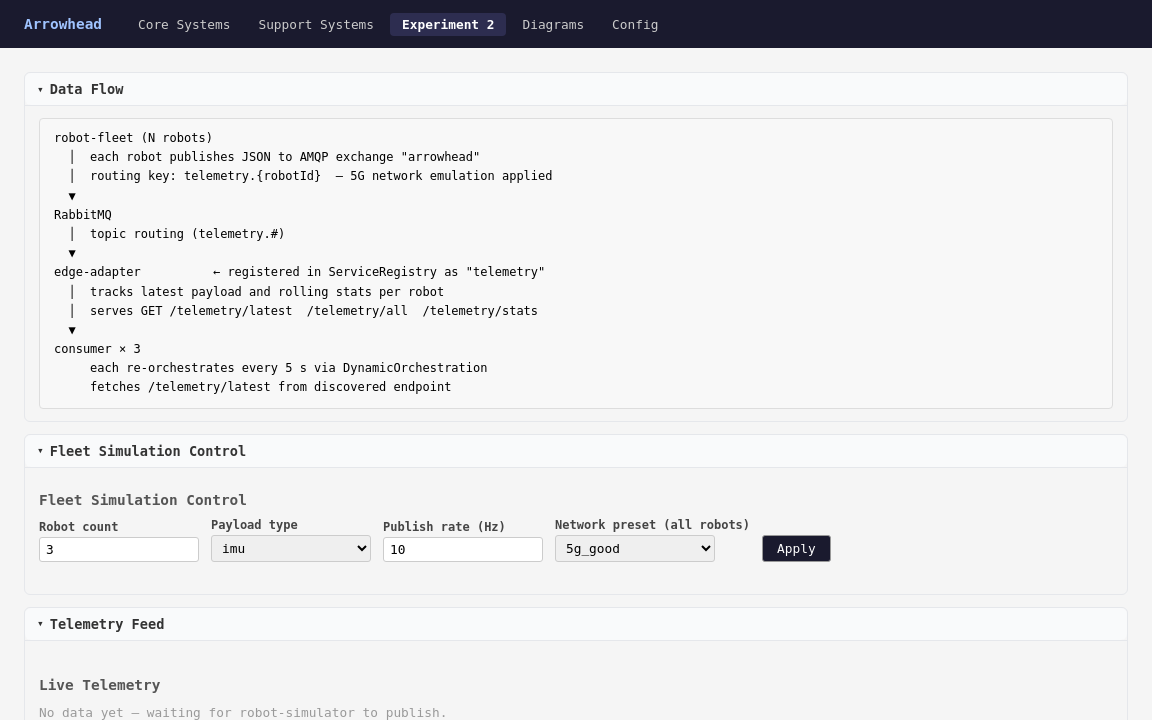
Test: App navigation › switches to Core Systems view on click
The width and height of the screenshot is (1152, 720).
Click the button "Core Systems". click: (184,24)
box: [126,12,242,36]
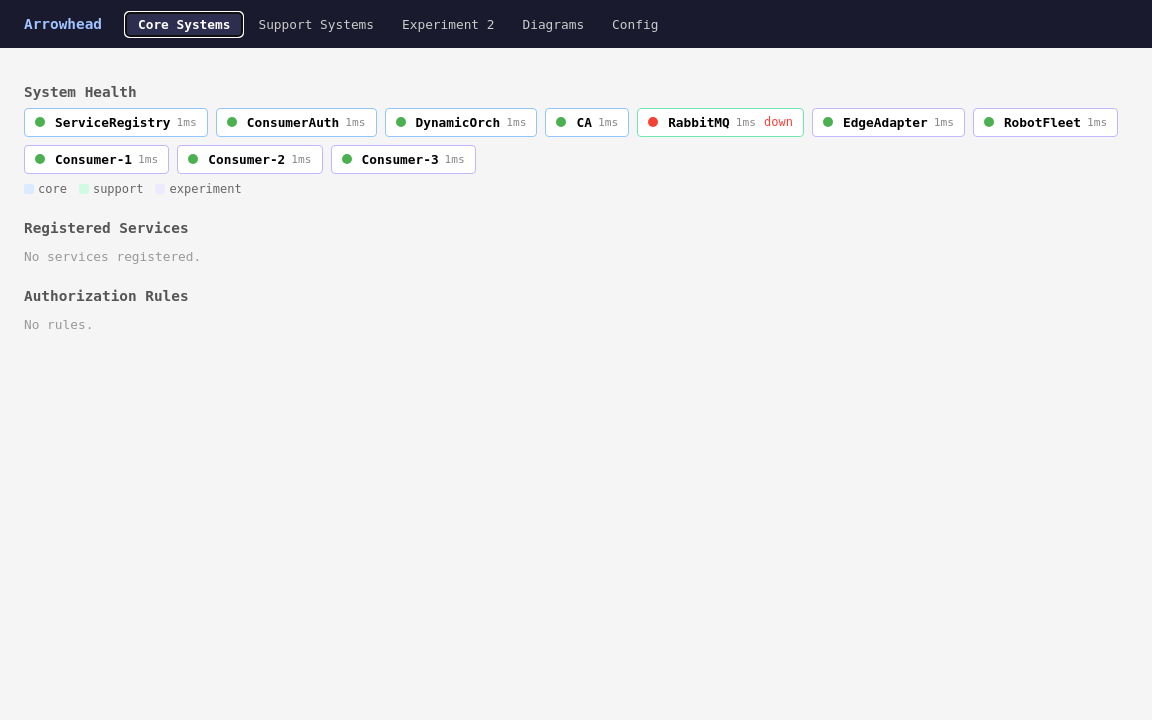
Now the heading "System Health" is shown, box [24,84,137,100]
